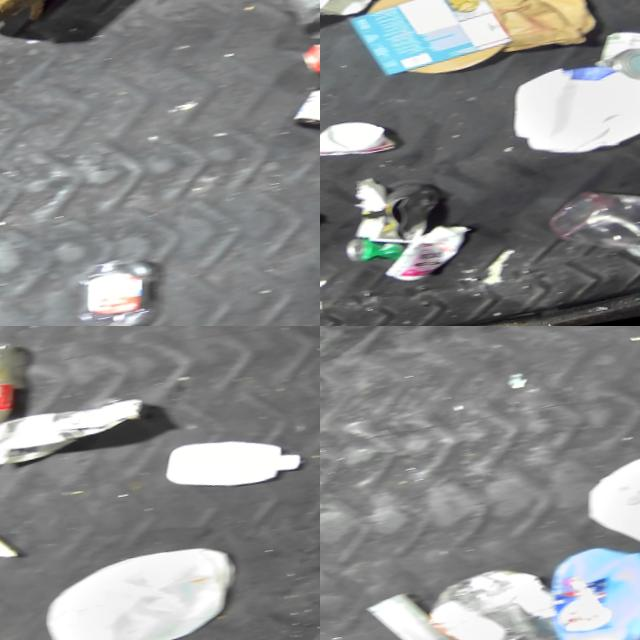can: (280, 0, 320, 50), (297, 28, 320, 84)
milk_jug: (33, 537, 244, 640), (502, 43, 640, 161), (574, 425, 640, 591)
non_white_jug: (537, 532, 640, 640)
plastic_bottle: (544, 172, 640, 276), (66, 251, 162, 326), (0, 338, 23, 455)
